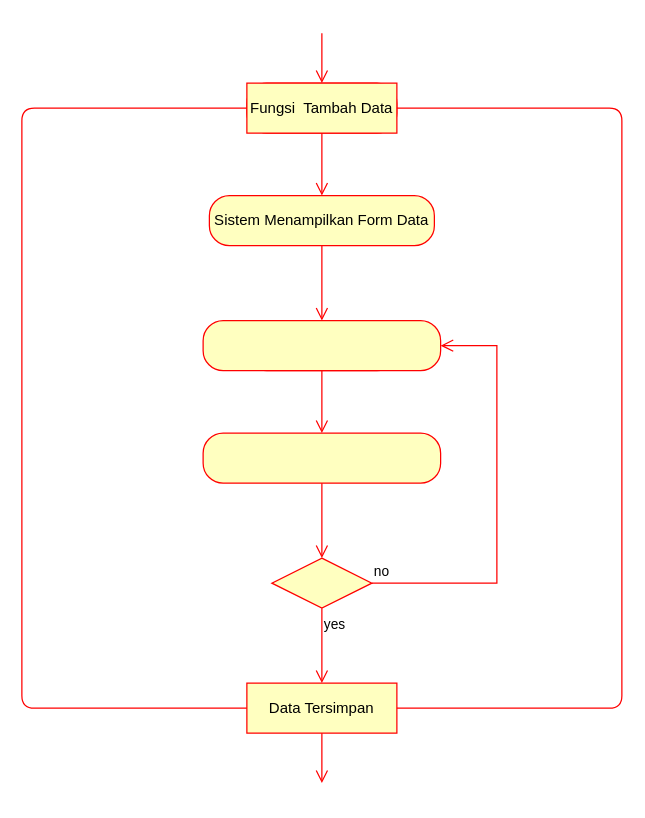
Image size: 645x818. Some labels were removed from this diagram. The shapes that lost their labels are listed below. From the top down, each one's centre as x and y in pixels, then its label:
the point at 321,345: Aktor Mengisi Form Tambah Data
the point at 321,457: Sistem Memvalidasi Data Inputan
